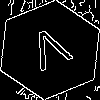V: (25, 25, 78, 81)
